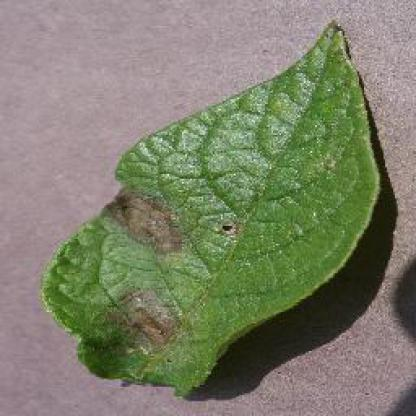bad leaf: (31, 11, 406, 399)
